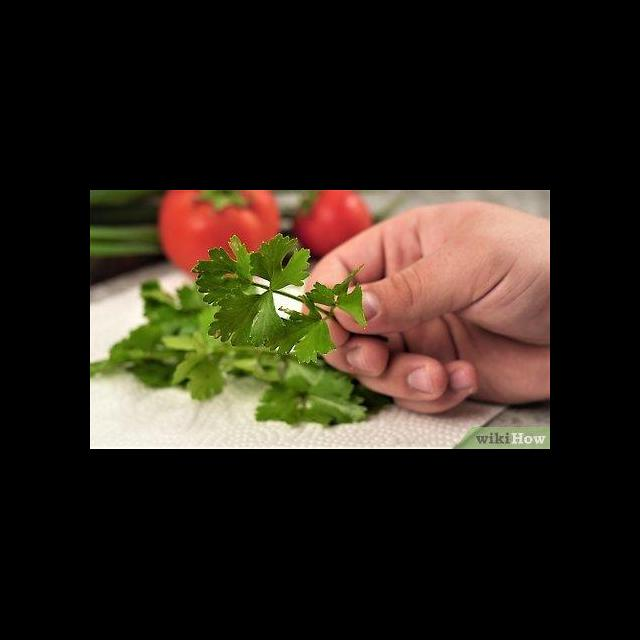cilantro: (90, 232, 389, 426)
